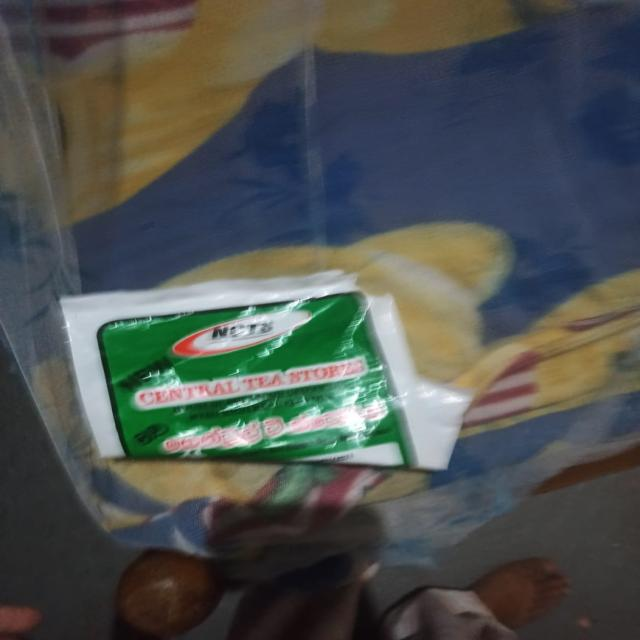Central Tea: (69, 304, 497, 512)
